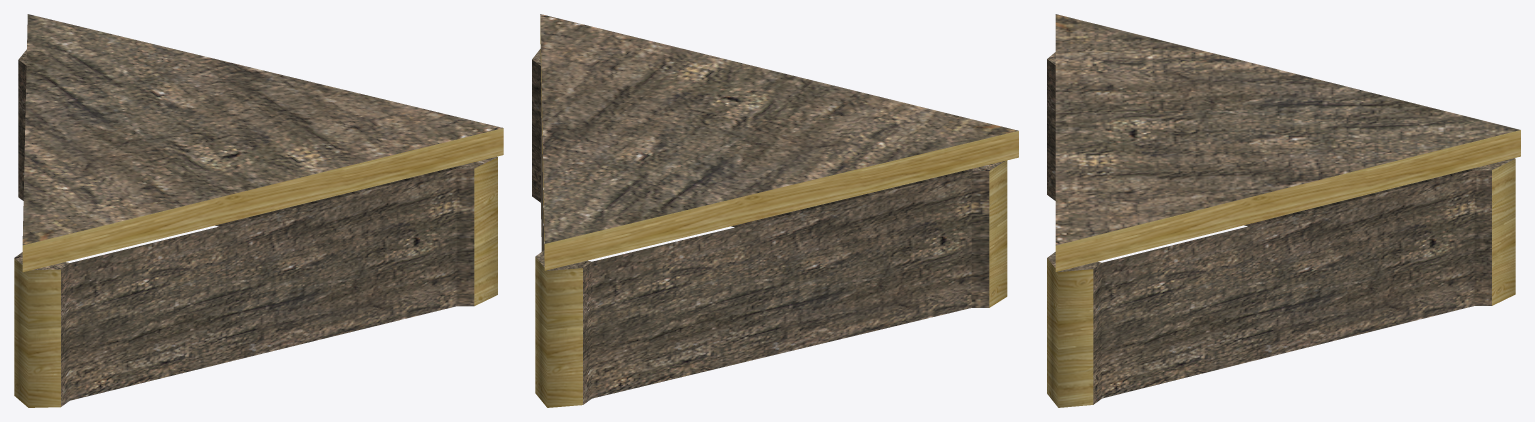
File: construction_wood_foundation_triangle_mesh_lod2.fbx
3 renders of one model, left to right at view 1: azimuth 30°, elevation 25°; view 2: azimuth 150°, elevation 25°; view 3: azimuth 270°, elevation 25°, orthographic.
Visible parts, largest first — view 1: construction_wood_foundation_triangle_mesh; view 2: construction_wood_foundation_triangle_mesh; view 3: construction_wood_foundation_triangle_mesh.
Part boxes in pixels (box(x1,y1,x2,y2)): construction_wood_foundation_triangle_mesh: box(14, 14, 503, 407); construction_wood_foundation_triangle_mesh: box(532, 14, 1018, 407); construction_wood_foundation_triangle_mesh: box(1047, 14, 1520, 407).
Bounding box in the file's own units: 302 × 100 × 261.
